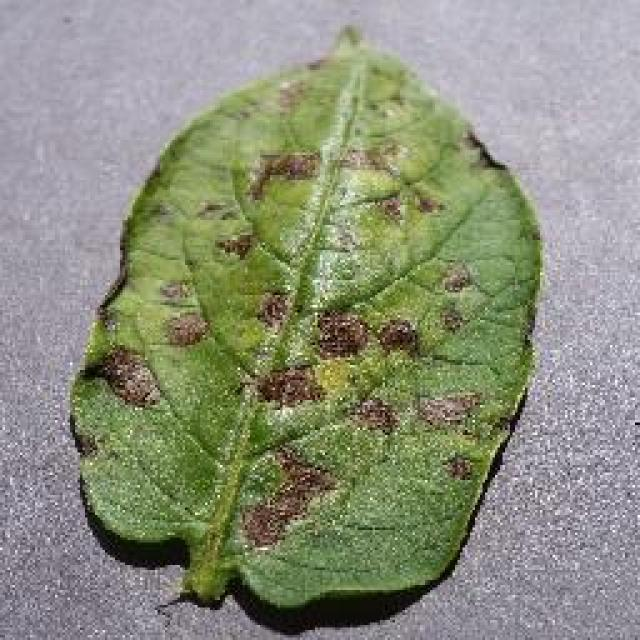early_blight: (65, 22, 547, 622)
